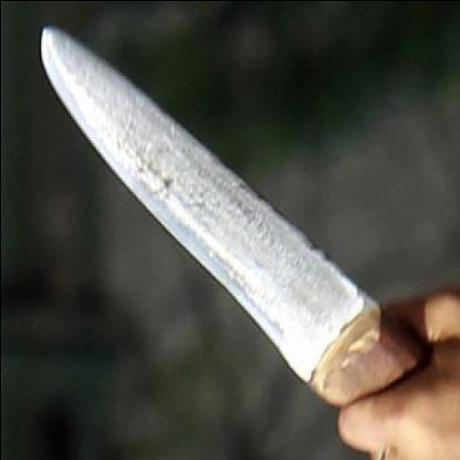weapon: (29, 22, 378, 383)
